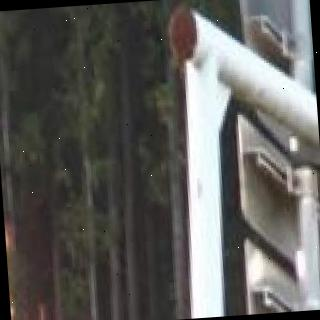fire: (3, 210, 46, 320)
